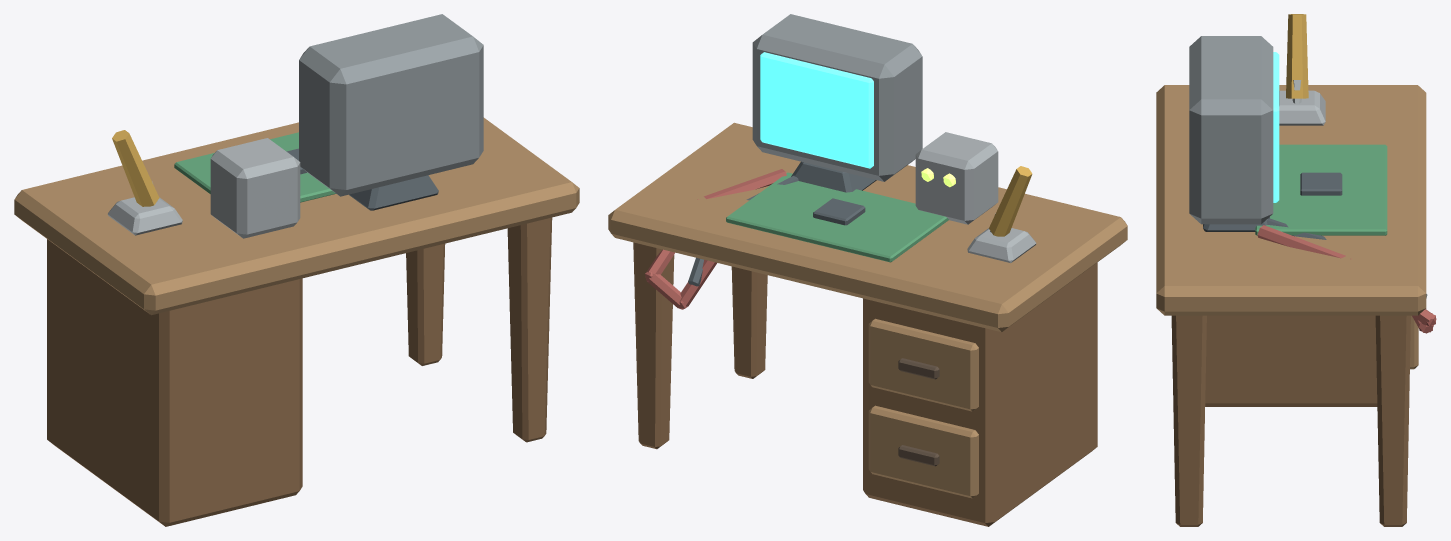
File: BUILD0027_ElectronicsCraftDesk.fbx
The picture shows the model from 3 angles, left to right: view 1: azimuth 30°, elevation 25°; view 2: azimuth 150°, elevation 25°; view 3: azimuth 270°, elevation 25°; orthographic projection. The views are drawn at different scales.
Parts seen in each view (by area): view 1: BUILD0027_ElectronicsCraftDesk; view 2: BUILD0027_ElectronicsCraftDesk; view 3: BUILD0027_ElectronicsCraftDesk.
Boxes of the visible parts, x1,y1,x2,y2 form: BUILD0027_ElectronicsCraftDesk: [14, 14, 579, 526]; BUILD0027_ElectronicsCraftDesk: [608, 14, 1127, 526]; BUILD0027_ElectronicsCraftDesk: [1156, 14, 1436, 526].
Bounding box in the file's own units: 1.64 × 1.47 × 0.9347.
